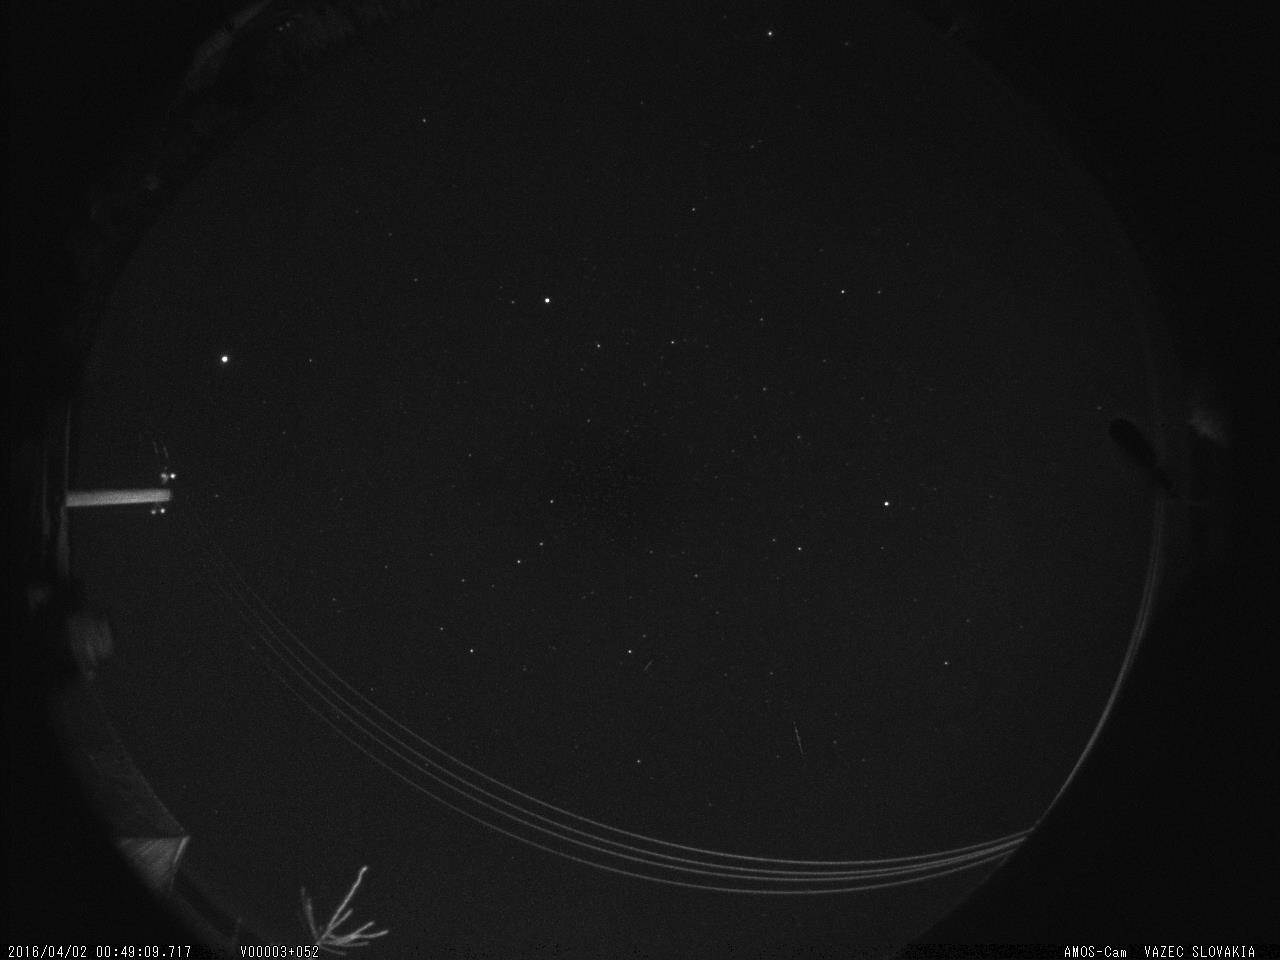meteor: (783, 713, 810, 764)
